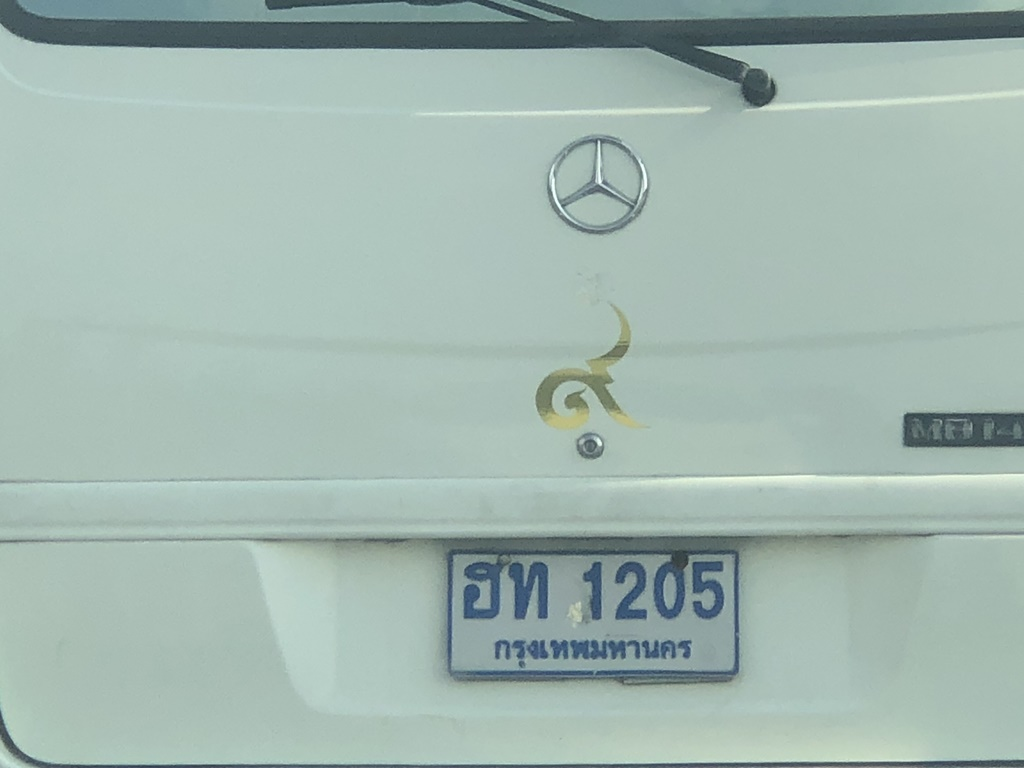zero: (648, 554, 692, 626)
